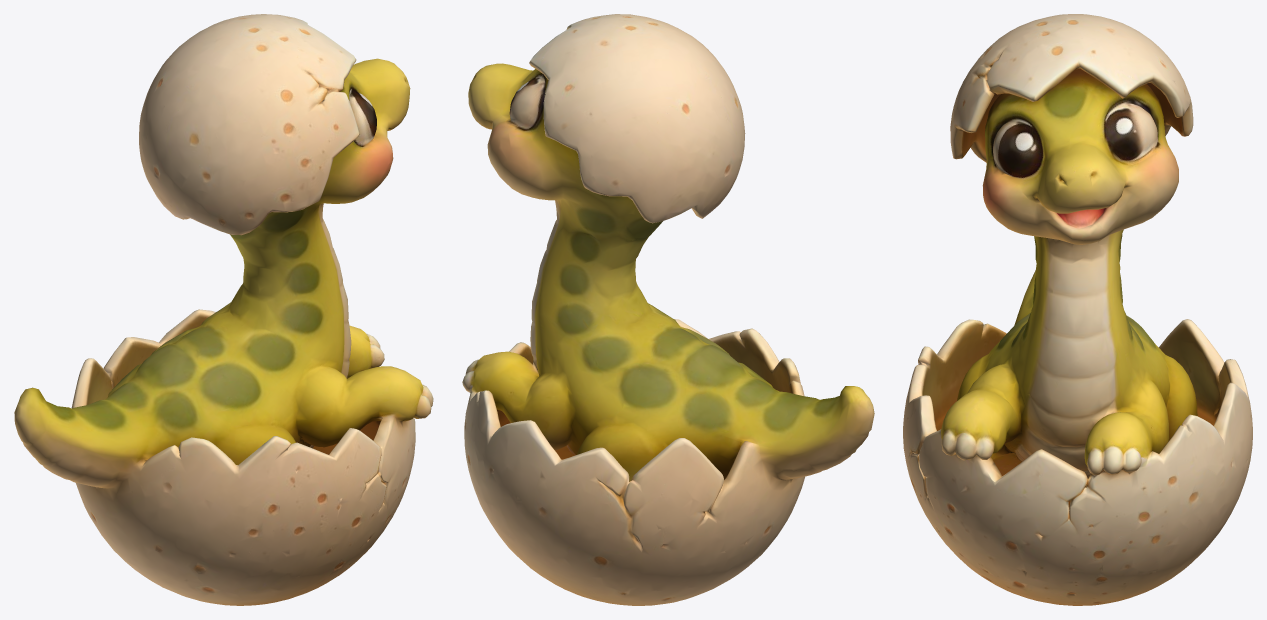
The model's file is baby_5.glb.
3 renders of one model, left to right at view 1: azimuth 30°, elevation 25°; view 2: azimuth 150°, elevation 25°; view 3: azimuth 270°, elevation 25°, orthographic. The views are drawn at different scales.
Visible parts, largest first — view 1: tripo_node_e3225586-e04e-4560-bccd-868cd0621685; view 2: tripo_node_e3225586-e04e-4560-bccd-868cd0621685; view 3: tripo_node_e3225586-e04e-4560-bccd-868cd0621685.
Boxes of the visible parts, x1=… form: tripo_node_e3225586-e04e-4560-bccd-868cd0621685: x1=14, y1=14, x2=433, y2=605; tripo_node_e3225586-e04e-4560-bccd-868cd0621685: x1=462, y1=14, x2=874, y2=605; tripo_node_e3225586-e04e-4560-bccd-868cd0621685: x1=903, y1=14, x2=1252, y2=605.
Bounding box in the file's own units: 0.7397 × 1 × 0.5556.
1 material, 1 textured.
